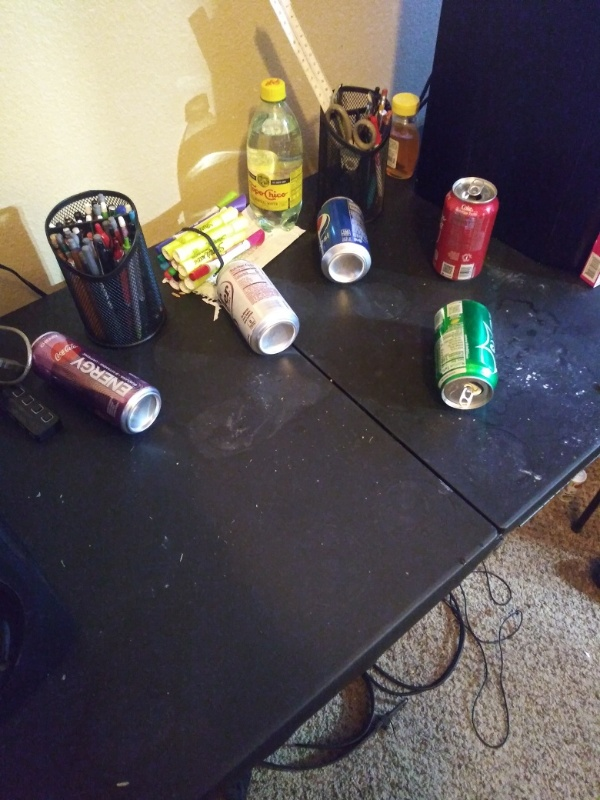can: (29, 324, 164, 440), (212, 257, 303, 359), (430, 295, 506, 412), (431, 171, 503, 285), (313, 189, 373, 286)
